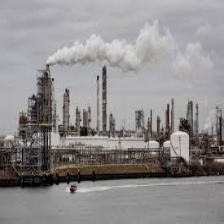smoke: (37, 26, 207, 75)
